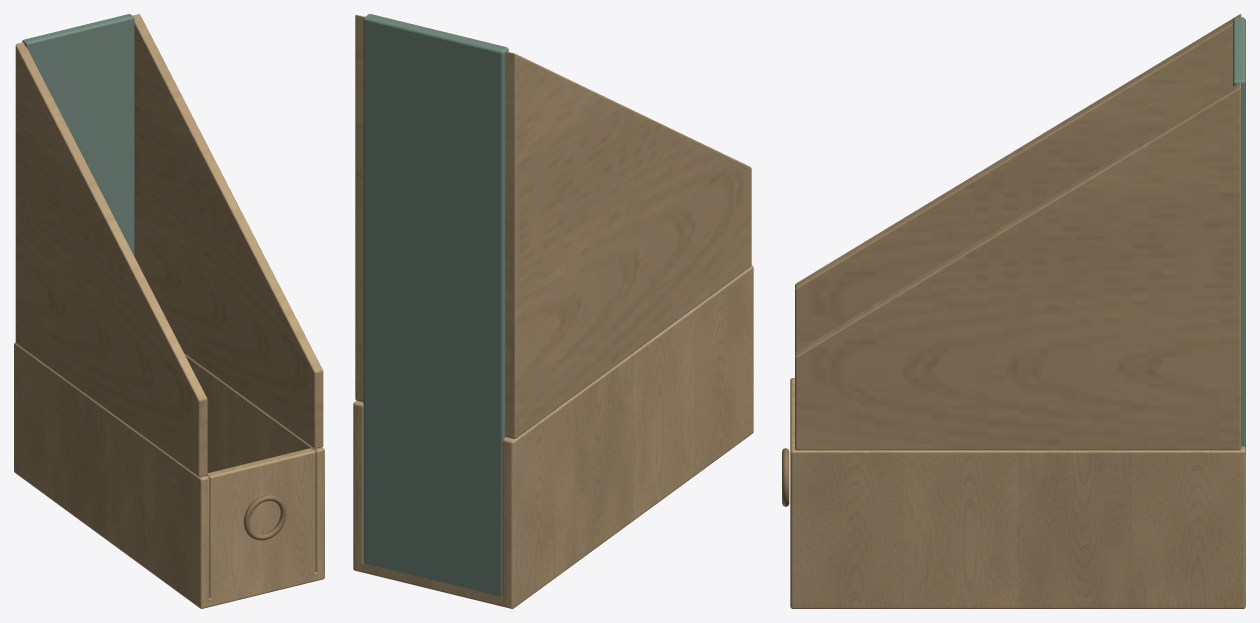
Rendered from investigation-file-holder.glb.
3 renders of one model, left to right at view 1: azimuth 30°, elevation 25°; view 2: azimuth 150°, elevation 25°; view 3: azimuth 270°, elevation 25°, orthographic. The views are drawn at different scales.
Parts seen in each view (by area): view 1: Sloping magazine file side, Sloping magazine file side.001, Magazine file lower pocket end, Magazine file tall back, Magazine file lower pocket side, Magazine file lower pocket end.001, File finger-pull rim; view 2: Magazine file tall back, Sloping magazine file side, Magazine file lower pocket end, Sloping magazine file side.001, Magazine file lower pocket end.001, Magazine file lower pocket side.001; view 3: Sloping magazine file side.001, Magazine file lower pocket end.001, Sloping magazine file side, Magazine file tall back.
Boxes of the visible parts, x1,y1,x2,y2 form: Sloping magazine file side: (15,42,207,476); Sloping magazine file side.001: (133,14,323,448); Magazine file lower pocket end: (14,342,209,608); Magazine file tall back: (22,14,134,255); Magazine file lower pocket side: (206,448,315,605); Magazine file lower pocket end.001: (184,354,324,579); File finger-pull rim: (244,495,286,540); Magazine file tall back: (363,14,508,596); Sloping magazine file side: (505,51,751,438); Magazine file lower pocket end: (502,265,753,608); Sloping magazine file side.001: (355,15,364,401); Magazine file lower pocket end.001: (353,400,363,571); Magazine file lower pocket side.001: (366,564,498,604); Sloping magazine file side.001: (795,82,1241,450); Magazine file lower pocket end.001: (790,446,1245,608); Sloping magazine file side: (795,14,1241,352); Magazine file tall back: (1233,17,1245,448).
Size of the model in its own units: 0.095 by 0.3135 by 0.2515.
4 materials, 4 textured.
